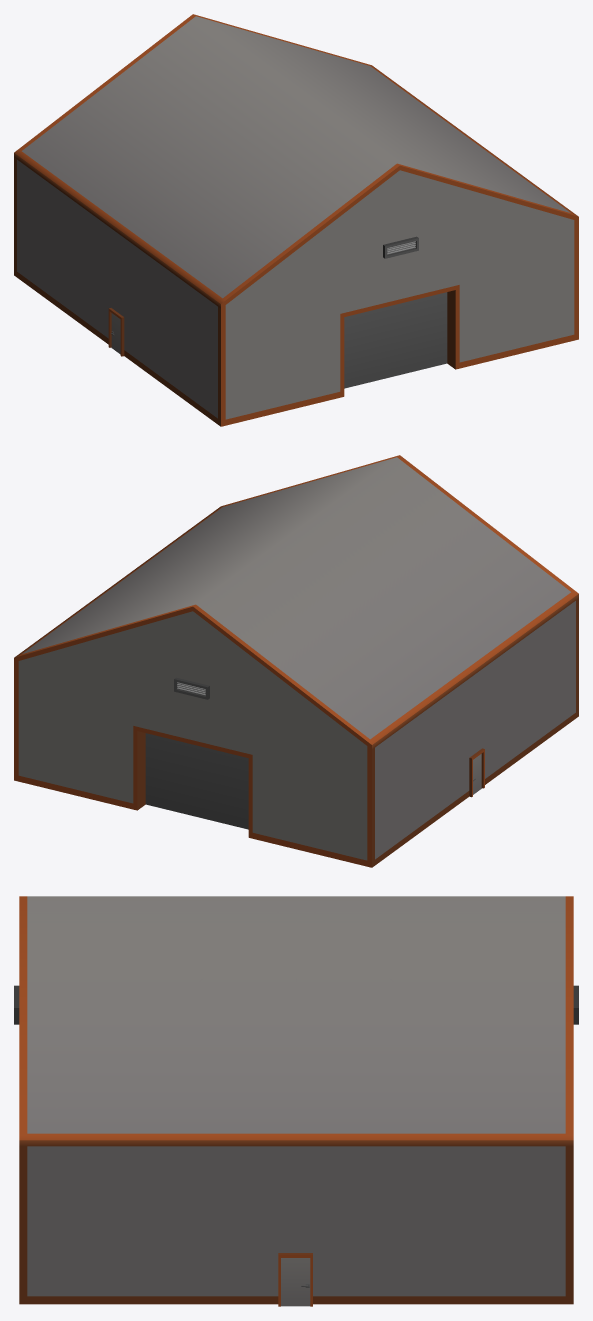
The model's file is buildings-industrial-warehouse_v2.glb.
3 views of the same model, one above another, from view 1: azimuth 30°, elevation 25°; view 2: azimuth 150°, elevation 25°; view 3: azimuth 270°, elevation 25° (orthographic). The views are drawn at different scales.
Visible parts, largest first — view 1: Warehouse_v2_base; view 2: Warehouse_v2_base; view 3: Warehouse_v2_base.
Part boxes in pixels (bbox=[...]): Warehouse_v2_base: bbox=[14, 14, 578, 426]; Warehouse_v2_base: bbox=[14, 455, 578, 867]; Warehouse_v2_base: bbox=[14, 896, 578, 1306].
Bounding box in the file's own units: 23.73 × 13.59 × 23.81.
